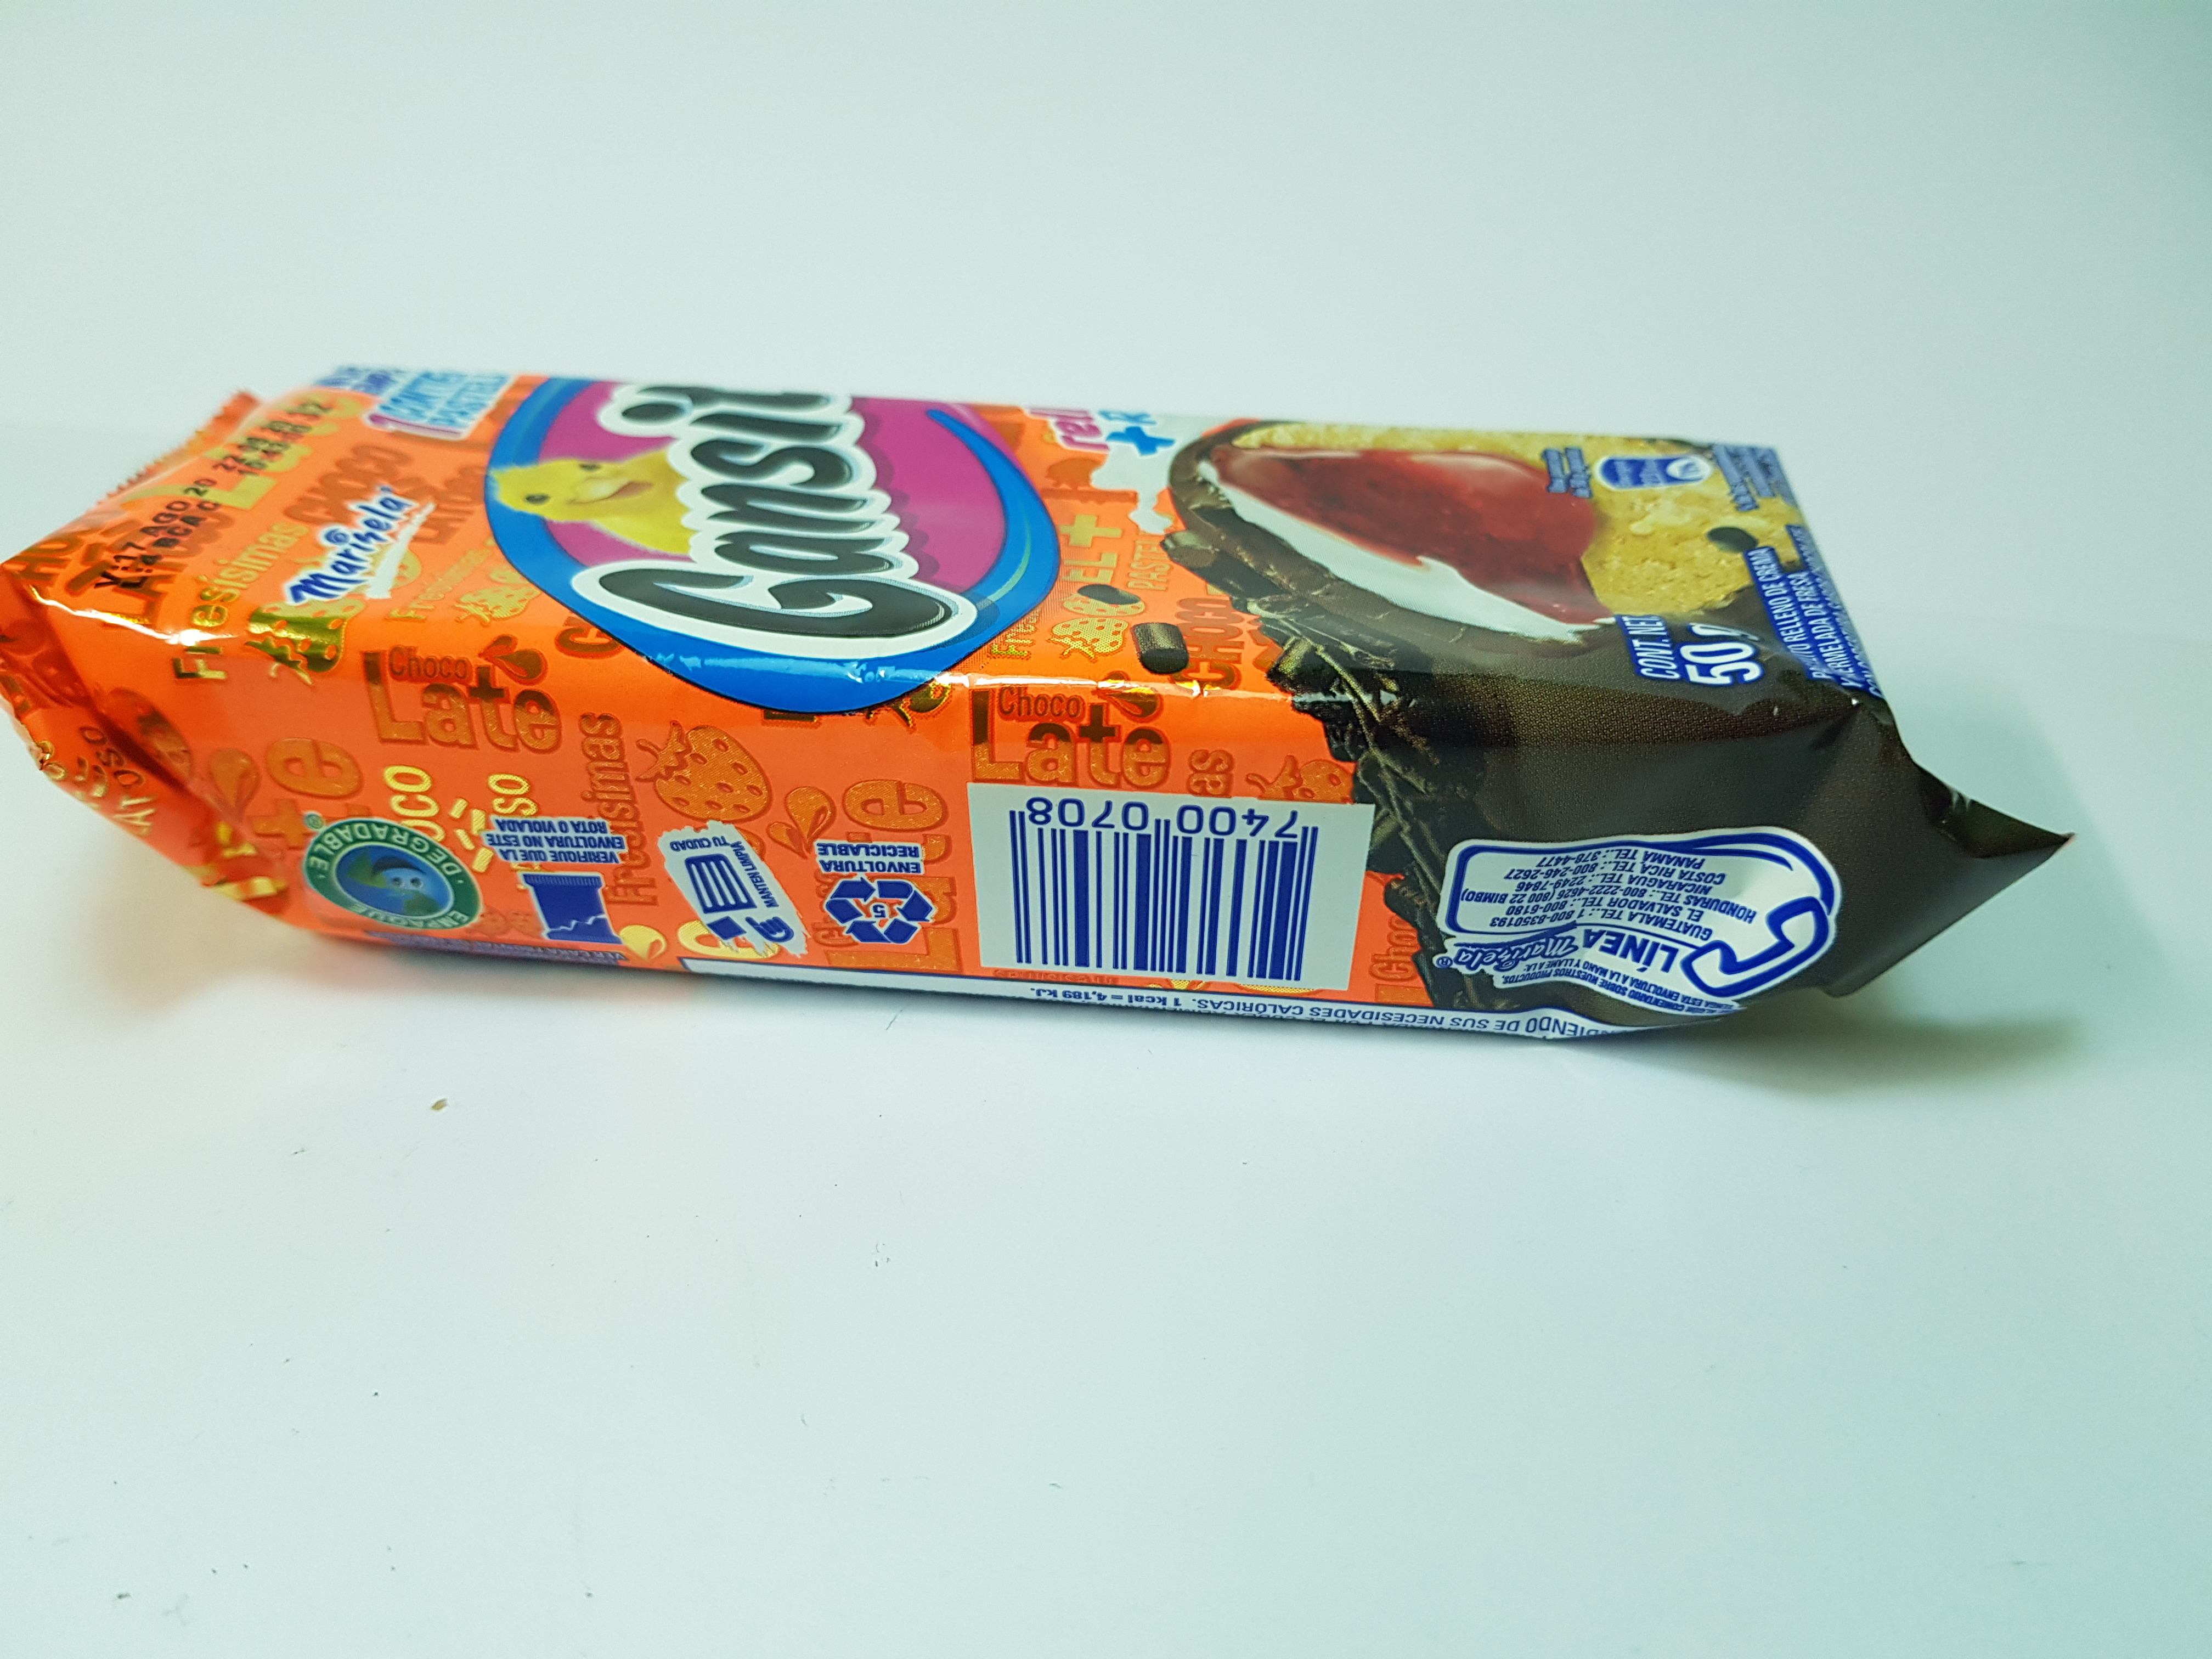gansito: (5, 322, 2085, 1066)
